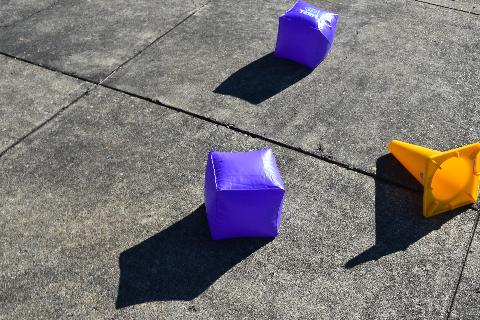cone: (388, 140, 480, 220)
cube: (205, 147, 285, 239), (273, 0, 339, 68)
